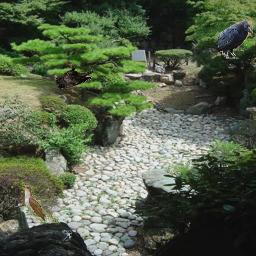Crow: (218, 19, 253, 59), (54, 60, 94, 89)
Cuckoo: (22, 185, 62, 225)
Swallow: (62, 230, 72, 241)
